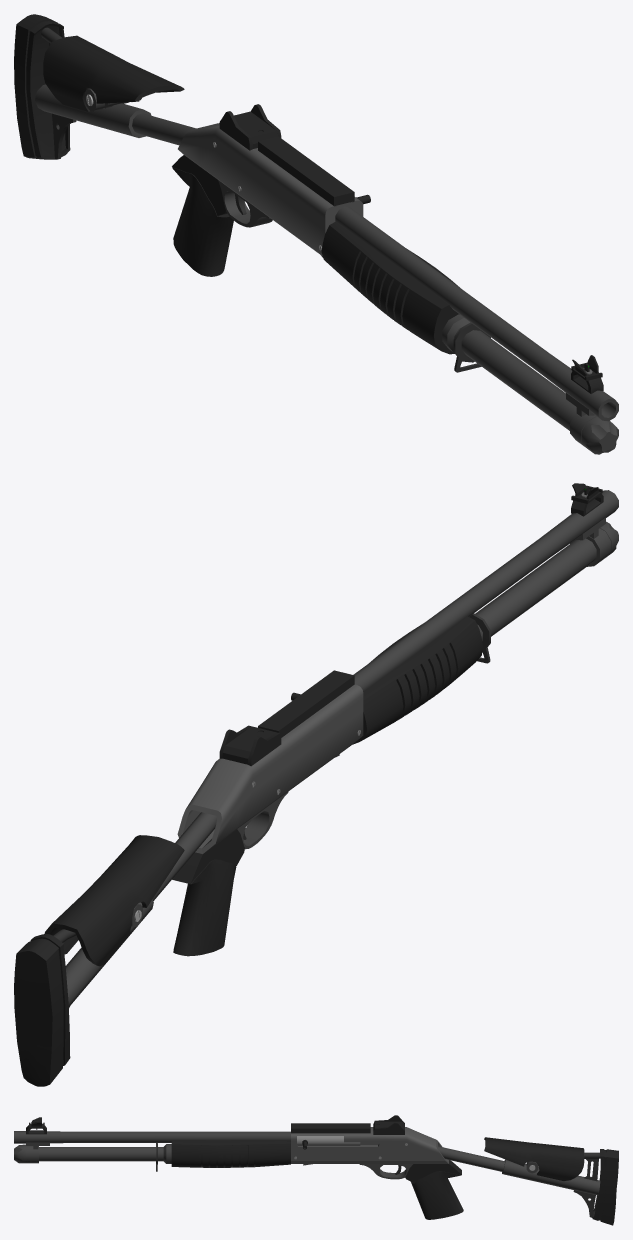
The model's file is Shotgun.fbx.
3 views of the same model, one above another, from view 1: azimuth 30°, elevation 25°; view 2: azimuth 150°, elevation 25°; view 3: azimuth 270°, elevation 25° (orthographic). The views are drawn at different scales.
Parts seen in each view (by area): view 1: Shotgun; view 2: Shotgun; view 3: Shotgun.
Part boxes in pixels (x1,y1,x2,y2): Shotgun: (14, 14, 618, 454); Shotgun: (14, 483, 618, 1086); Shotgun: (14, 1115, 618, 1225).
Size of the model in its own units: 15.19 by 43.77 by 228.
